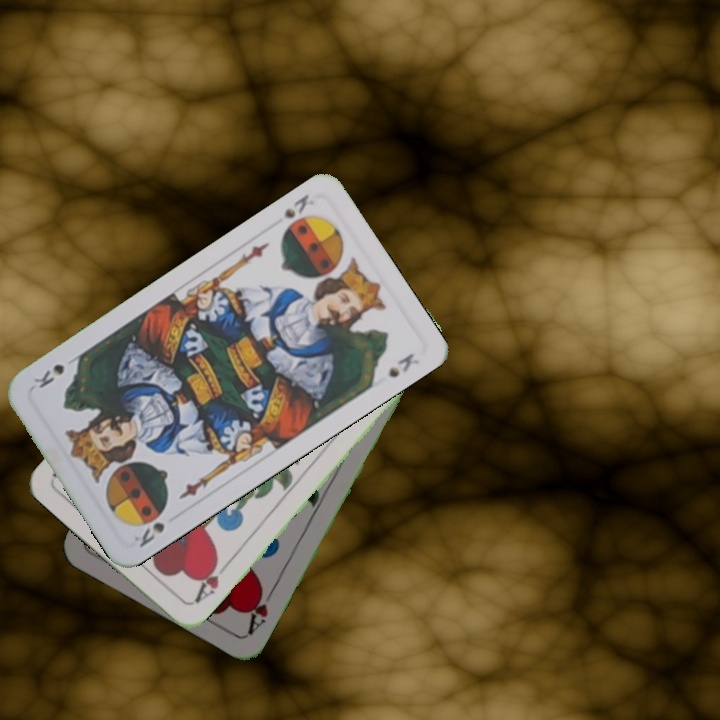HA: (189, 554, 232, 606), (243, 582, 279, 637)
SK: (130, 504, 171, 550), (278, 190, 317, 222)
